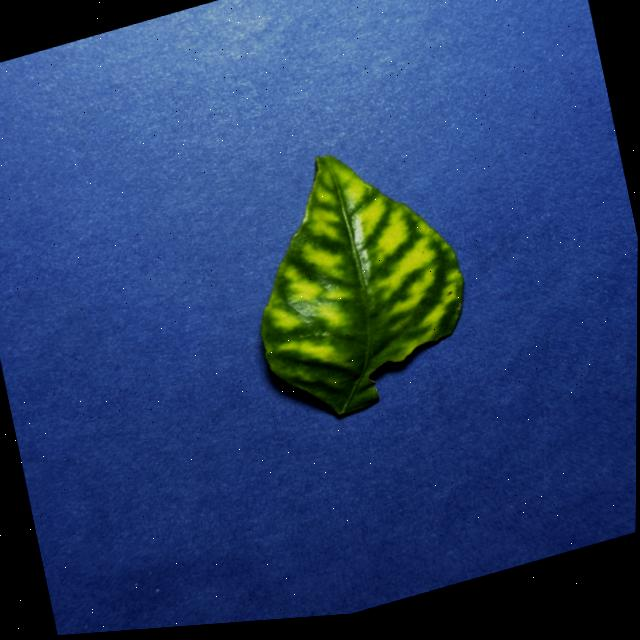greening: (260, 155, 461, 414)
